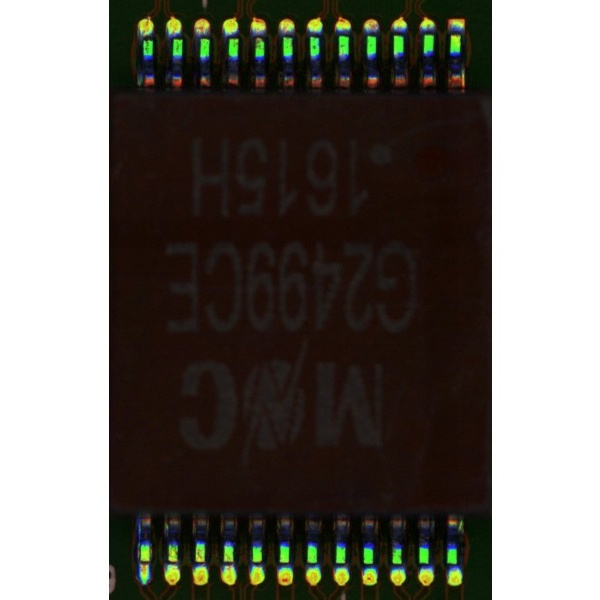Bad_podu: (140, 551, 147, 576)
